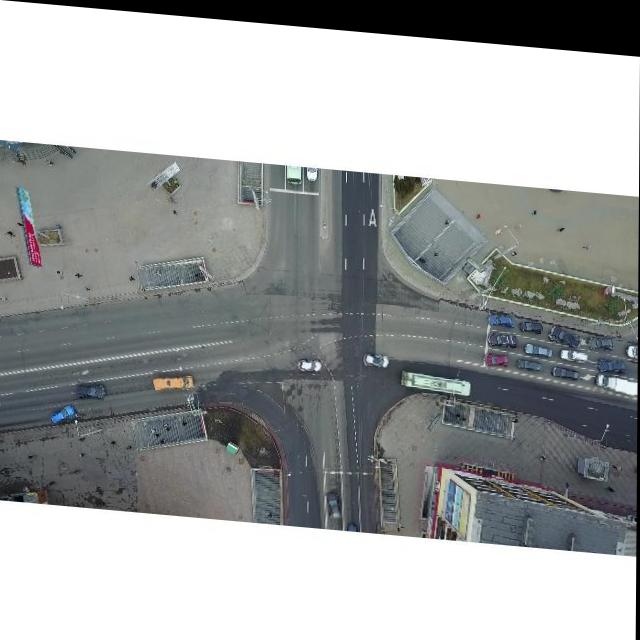vehicle: (153, 368, 194, 391), (596, 363, 637, 385), (549, 317, 582, 339), (75, 379, 106, 400), (49, 403, 78, 424), (597, 345, 627, 364), (488, 321, 519, 339), (485, 342, 512, 360), (588, 323, 615, 341), (488, 303, 516, 319), (526, 333, 553, 349), (327, 485, 341, 514), (519, 309, 544, 325), (560, 338, 588, 352), (364, 346, 390, 361), (517, 348, 543, 362), (299, 353, 323, 367)
